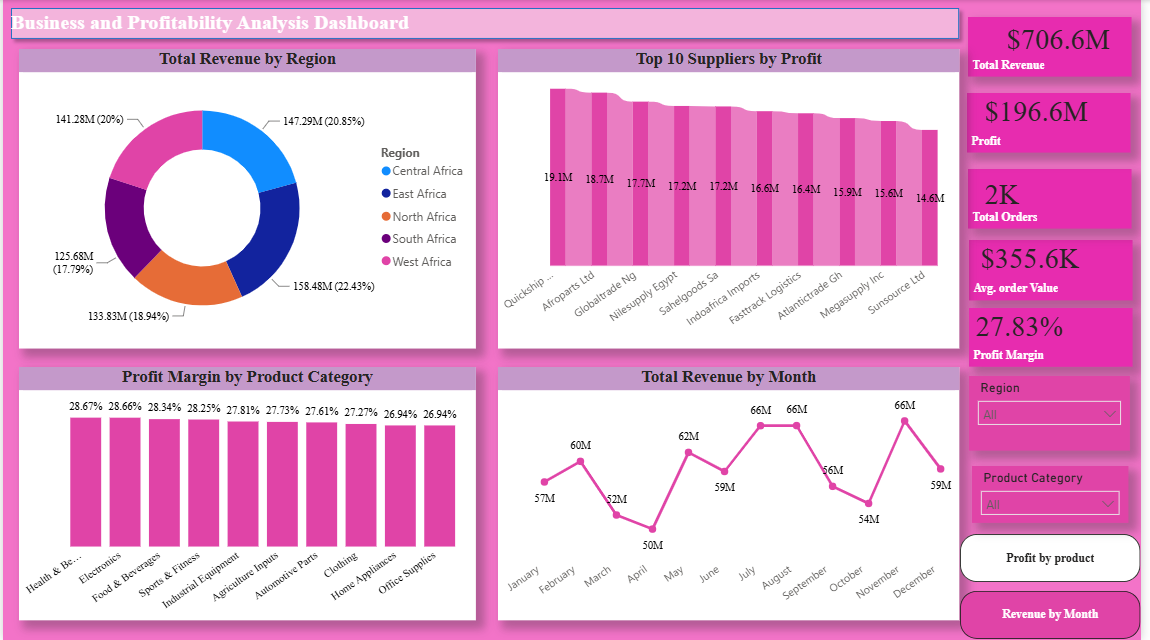

The dashboard page shown, as its layout file describes it:
{"tool":"powerbi","page":{"name":"Duplicate of Page 1","canvas":[1280,720],"ordinal":1},"visuals":[{"type":"shape","box":[1085.9,19.3,183.8,66.8],"z":0},{"type":"shape","box":[1086.5,269.5,183.8,67.7],"z":1000},{"type":"shape","box":[1085.9,190.2,183.8,66.8],"z":2000},{"type":"shape","box":[1084.7,104.1,183.8,66.8],"z":3000},{"type":"shape","box":[0,0,1084.7,52.7],"z":4000},{"type":"cardVisual","fields":{"Data":["Calender.Total Revenue"]},"box":[1100.1,0,179.9,86.1],"z":5000},{"type":"cardVisual","fields":{"Data":["Calender.Average Order Value"]},"box":[1071.3,243.3,185.2,94],"z":6000},{"type":"cardVisual","fields":{"Data":["Calender.Profit"]},"box":[1075.7,77.1,181.2,93.8],"z":7000},{"type":"cardVisual","fields":{"Data":["Calender.Total order"]},"box":[1075.7,170.9,161.9,93.8],"z":8000},{"type":"donutChart","fields":{"Y":["Calender.Total Revenue"],"Series":["Location.Region"]},"box":[18,55.3,514.1,336.7],"z":9000},{"type":"ribbonChart","title":"Top 10 Suppliers by Profit","fields":{"Category":["Sales.Suppliers_cleaned"],"Y":["Calender.Profit"]},"box":[556.5,55.3,519.2,336.7],"z":10000},{"type":"columnChart","fields":{"Category":["Product.Product Category"],"Y":["Calender.Profit Margin"]},"box":[18,413,514,285],"z":12000},{"type":"shape","box":[1086.5,347,183.8,66.3],"z":12001},{"type":"cardVisual","fields":{"Data":["Calender.Profit Margin"]},"box":[1065.7,319.3,181.1,94],"z":12002},{"type":"lineChart","fields":{"Y":["Calender.Total Revenue"],"Category":["Calender.Ship Date.Variation.Date Hierarchy.Month"]},"box":[556.5,412.5,519.2,285.3],"z":12003},{"type":"bookmarkNavigator","box":[1076.8,601.3,203.2,118.9],"z":12004},{"type":"slicer","fields":{"Values":["Location.Region"]},"box":[1086.5,423,181.1,84.3],"z":12005},{"type":"slicer","fields":{"Values":["Product.Product Category"]},"box":[1090.6,523.9,175.6,63.6],"z":12006}]}

Visuals, with their boxes in screenshot pixels (x1, y1, x2, y2), scaled from the page's 1280x720 canvas onto the 1150x640 screenshot:
shape: (976,17,1141,77)
shape: (976,240,1141,300)
shape: (976,169,1141,228)
shape: (975,93,1140,152)
shape: (0,0,975,47)
cardVisual - Calender.Total Revenue: (988,0,1149,77)
cardVisual - Calender.Average Order Value: (962,216,1129,300)
cardVisual - Calender.Profit: (966,69,1129,152)
cardVisual - Calender.Total order: (966,152,1112,235)
donutChart - Calender.Total Revenue x Location.Region: (16,49,478,348)
"Top 10 Suppliers by Profit" ribbonChart: (500,49,966,348)
columnChart - Product.Product Category x Calender.Profit Margin: (16,367,478,620)
shape: (976,308,1141,367)
cardVisual - Calender.Profit Margin: (957,284,1120,367)
lineChart - Calender.Total Revenue x Calender.Ship Date.Variation.Date Hierarchy.Month: (500,367,966,620)
bookmarkNavigator: (967,534,1149,639)
slicer - Location.Region: (976,376,1139,451)
slicer - Product.Product Category: (980,466,1138,522)
